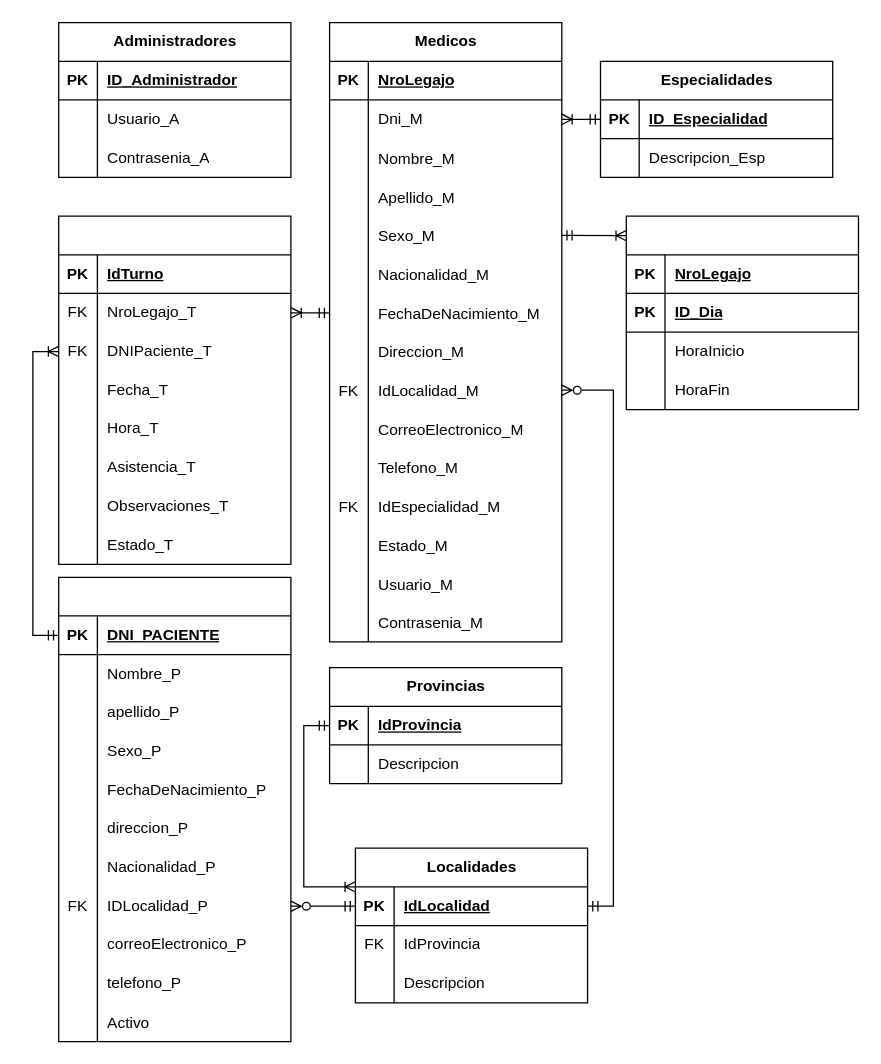
Some shapes in this 881 by 1064 pixel diagram are drawn without their labels. The box of each missing label's shape, as (x1, y1, x2, y2) in pixels:
Horario _Medicos: (625, 215, 858, 410)
Pacientes: (57, 576, 291, 1042)
Turnos: (57, 215, 291, 564)
